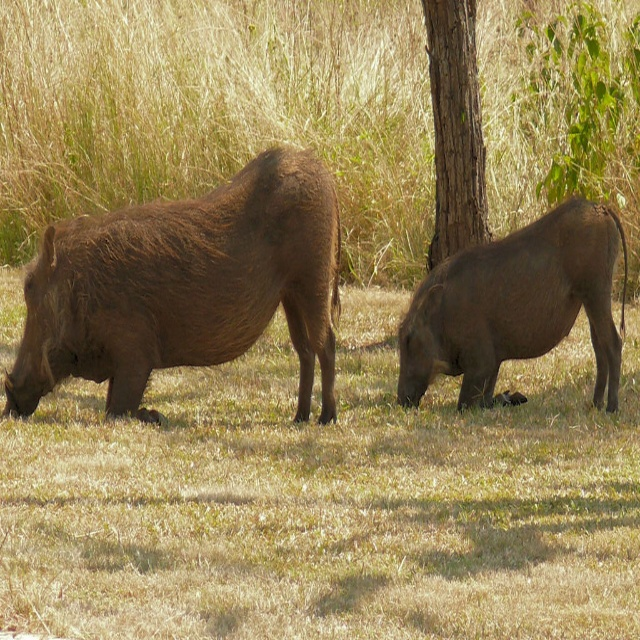Pig: (3, 144, 341, 426), (397, 195, 628, 414)
